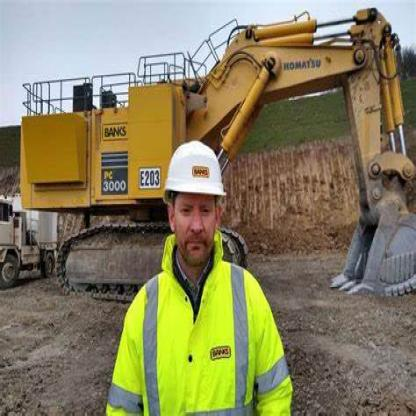excavator: (21, 8, 415, 309)
person: (98, 129, 302, 415)
